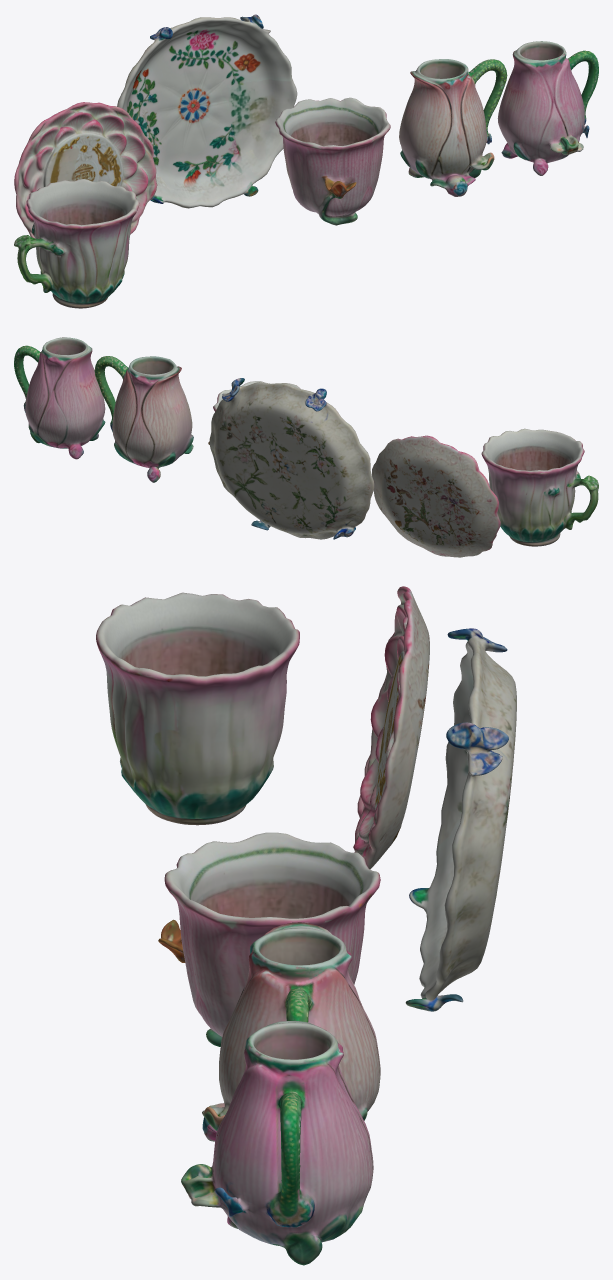
File: 荷花套件.glb
3 renders of one model, top to bottom at view 1: azimuth 30°, elevation 25°; view 2: azimuth 150°, elevation 25°; view 3: azimuth 270°, elevation 25°, orthographic. The views are drawn at different scales.
Visible parts, largest first — view 1: tripo_node_52cde5c6; view 2: tripo_node_52cde5c6; view 3: tripo_node_52cde5c6.
Boxes of the visible parts, x1,y1,x2,y2 form: tripo_node_52cde5c6: (14,14,598,308); tripo_node_52cde5c6: (14,337,598,557); tripo_node_52cde5c6: (96,586,516,1265).
Bounding box in the file's own units: 97.56 × 27.44 × 31.88.
1 material, 1 textured.
